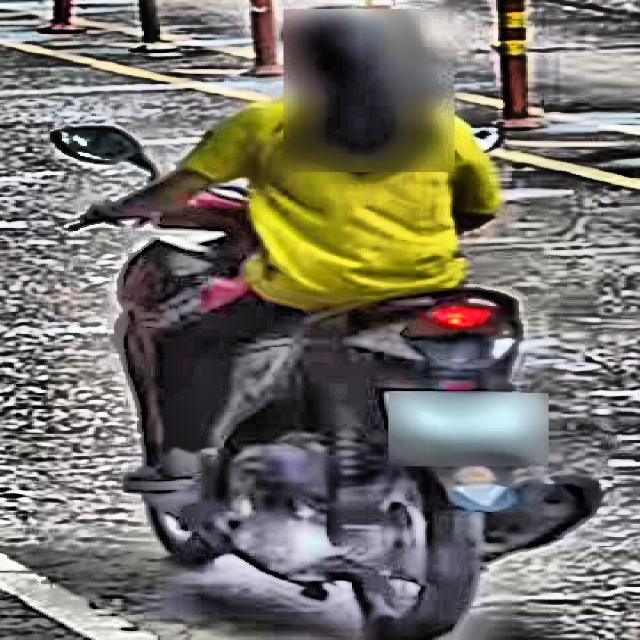motorcycle: (48, 82, 617, 640)
